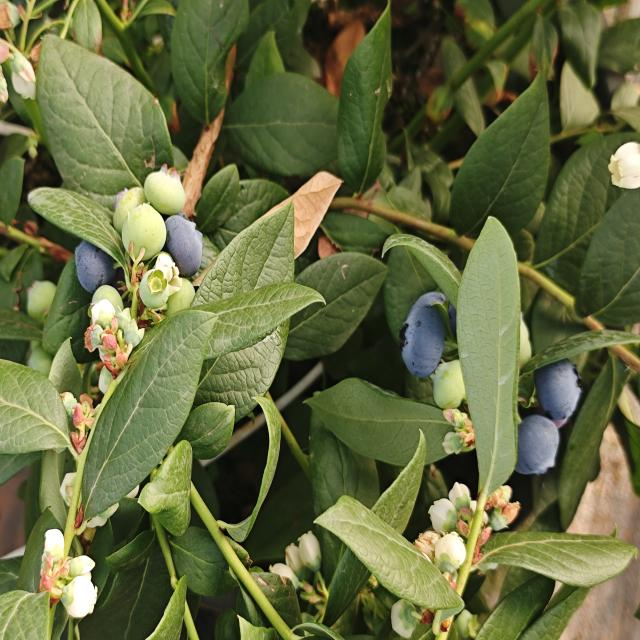ripe: (396, 288, 454, 382), (531, 357, 584, 425), (513, 412, 561, 478), (163, 213, 205, 279), (72, 238, 117, 296)
